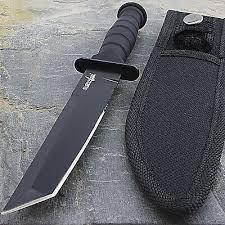Knife: (2, 3, 145, 218)
